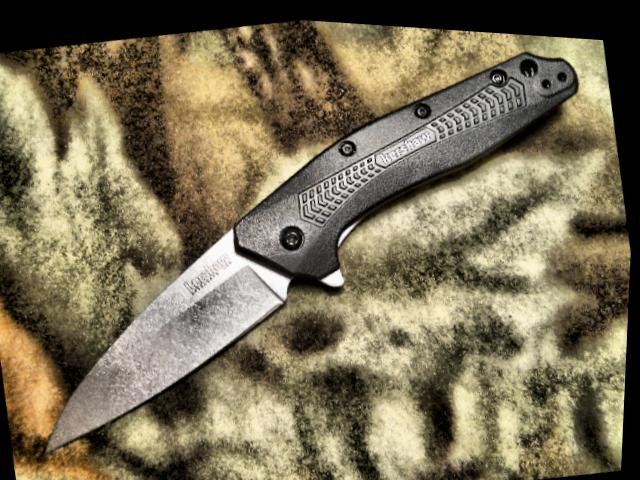knife: (0, 184, 337, 479)
